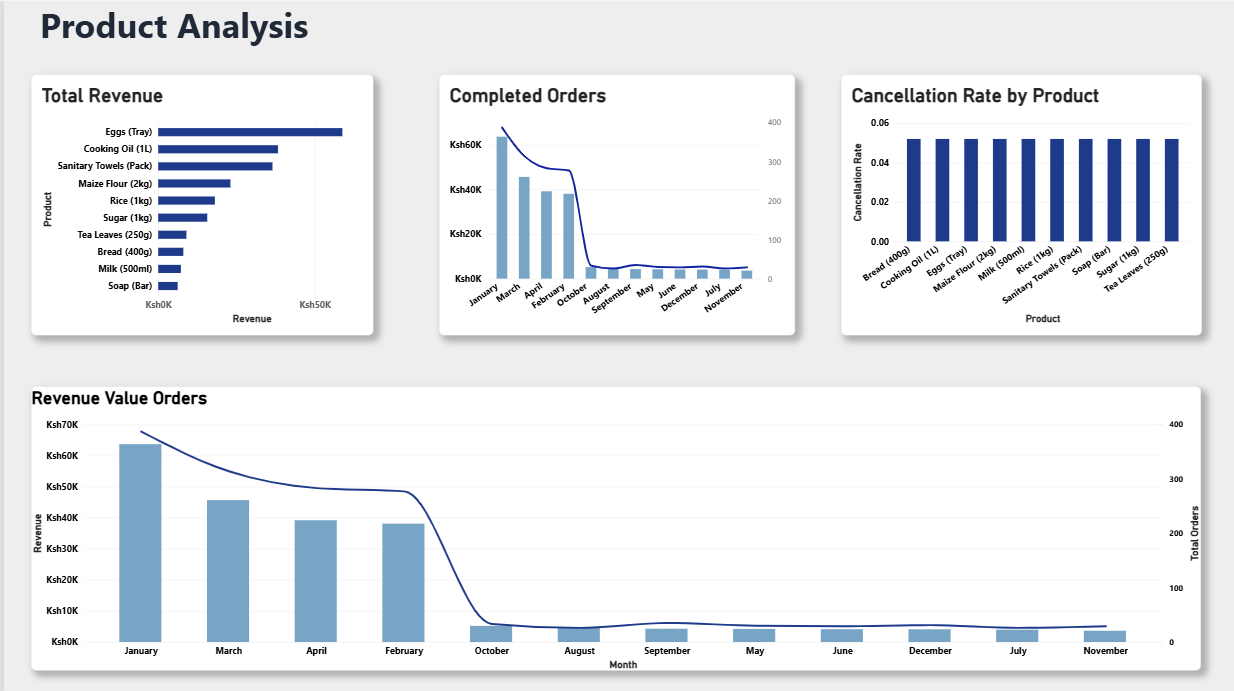

The dashboard page shown, as its layout file describes it:
{"tool":"powerbi","page":{"name":"Product Analysis","canvas":[1920,1080],"ordinal":1},"visuals":[{"type":"textbox","box":[54.9,0,508.2,81.1],"z":0},{"type":"clusteredBarChart","title":"Total Revenue","fields":{"Category":["dim_products.Product"],"Y":["dim_customers.1. Total Revenue"]},"box":[42.9,114.5,532.1,405.6],"z":1000},{"type":"lineClusteredColumnComboChart","title":"Completed Orders","fields":{"Category":["dim_date.MonthName"],"Y":["dim_customers.1. Total Revenue"],"Y2":["dim_customers.Total Orders"]},"box":[675.2,114.5,553.5,405.6],"z":2000},{"type":"clusteredColumnChart","fields":{"Category":["dim_products.Product"],"Y":["dim_customers.Cancellation Rate"]},"box":[1300.3,114.5,560.7,405.6],"z":3000},{"type":"lineClusteredColumnComboChart","title":"Revenue Value  Orders","fields":{"Category":["dim_date.MonthName"],"Y":["dim_customers.1. Total Revenue"],"Y2":["dim_customers.Total Orders"]},"box":[42.9,598.9,1818.1,441.4],"z":4000}]}

Visuals, with their boxes in screenshot pixels (x1, y1, x2, y2), scaled from the page's 1920x1080 canvas onto the 1234x691 screenshot:
textbox: [35,0,362,52]
"Total Revenue" clusteredBarChart: [28,73,370,333]
"Completed Orders" lineClusteredColumnComboChart: [434,73,790,333]
clusteredColumnChart - dim_products.Product x dim_customers.Cancellation Rate: [836,73,1196,333]
"Revenue Value  Orders" lineClusteredColumnComboChart: [28,383,1196,666]
